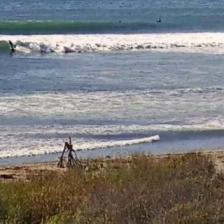surfer: (8, 40, 14, 49), (156, 18, 162, 23), (118, 20, 122, 24), (0, 56, 2, 61)
